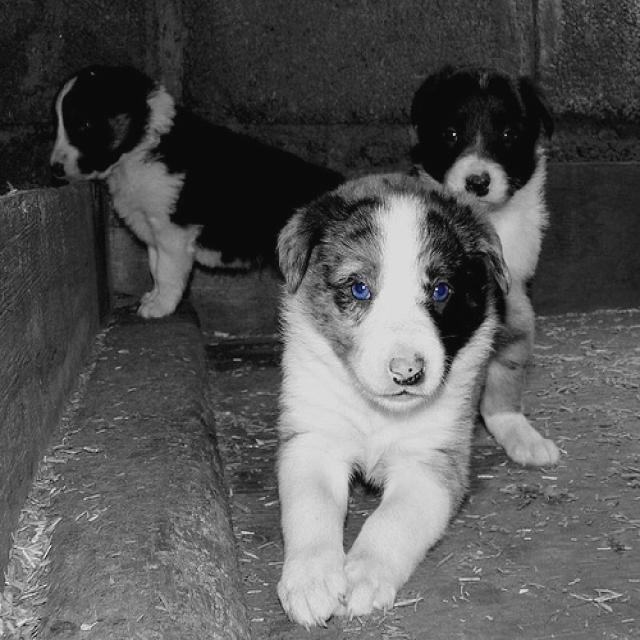Dog: (209, 126, 609, 640), (0, 22, 352, 392)
